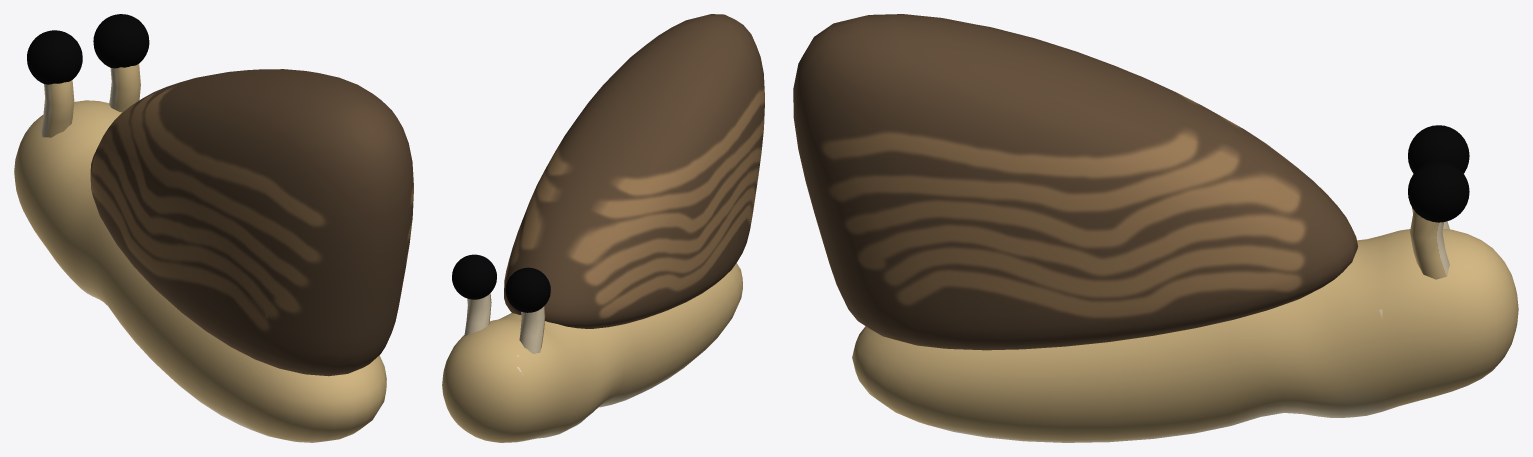
The model's file is SpeedSnalien.fbx.
The picture shows the model from 3 angles, left to right: view 1: azimuth 30°, elevation 25°; view 2: azimuth 150°, elevation 25°; view 3: azimuth 270°, elevation 25°; orthographic projection. The views are drawn at different scales.
Visible parts, largest first — view 1: Cube.026, Cube.027, Sphere.011, Sphere.012, Cube.029, Cube.028; view 2: Cube.026, Cube.027, Sphere.012, Sphere.011, Cube.029, Cube.028; view 3: Cube.026, Cube.027, Sphere.011, Sphere.012, Cube.028.
Part boxes in pixels (<box>): Cube.026: <box>90,69,413,376</box>; Cube.027: <box>14,100,386,442</box>; Sphere.011: <box>93,14,149,68</box>; Sphere.012: <box>27,30,82,84</box>; Cube.029: <box>41,80,74,137</box>; Cube.028: <box>109,64,140,112</box>; Cube.026: <box>504,14,764,328</box>; Cube.027: <box>442,263,742,442</box>; Sphere.012: <box>505,267,550,312</box>; Sphere.011: <box>452,254,496,299</box>; Cube.029: <box>519,306,545,353</box>; Cube.028: <box>464,293,491,336</box>; Cube.026: <box>793,14,1357,350</box>; Cube.027: <box>852,228,1518,442</box>; Sphere.011: <box>1408,161,1469,222</box>; Sphere.012: <box>1408,125,1469,173</box>; Cube.028: <box>1410,210,1449,279</box>.
Bounding box in the file's own units: 183 × 355 × 572.
